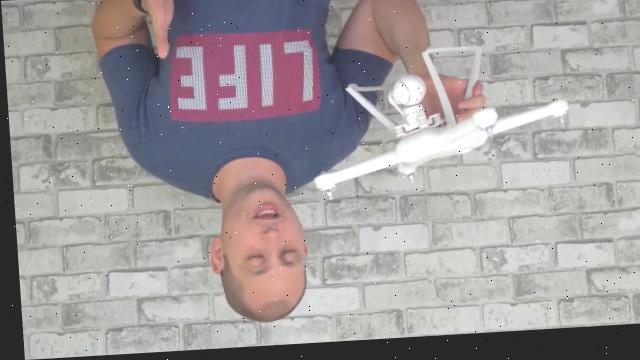drone: (294, 43, 578, 207)
